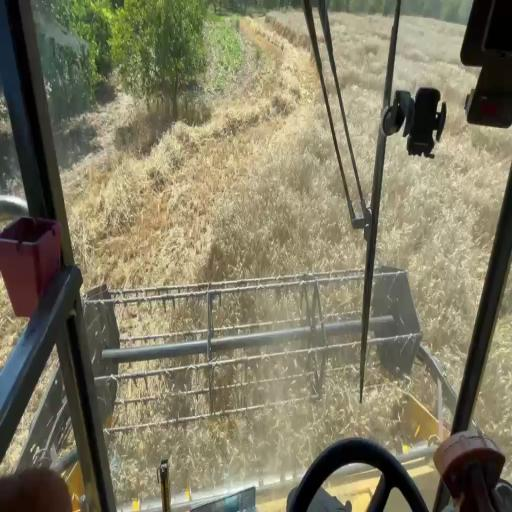arpa: (82, 0, 512, 511)
